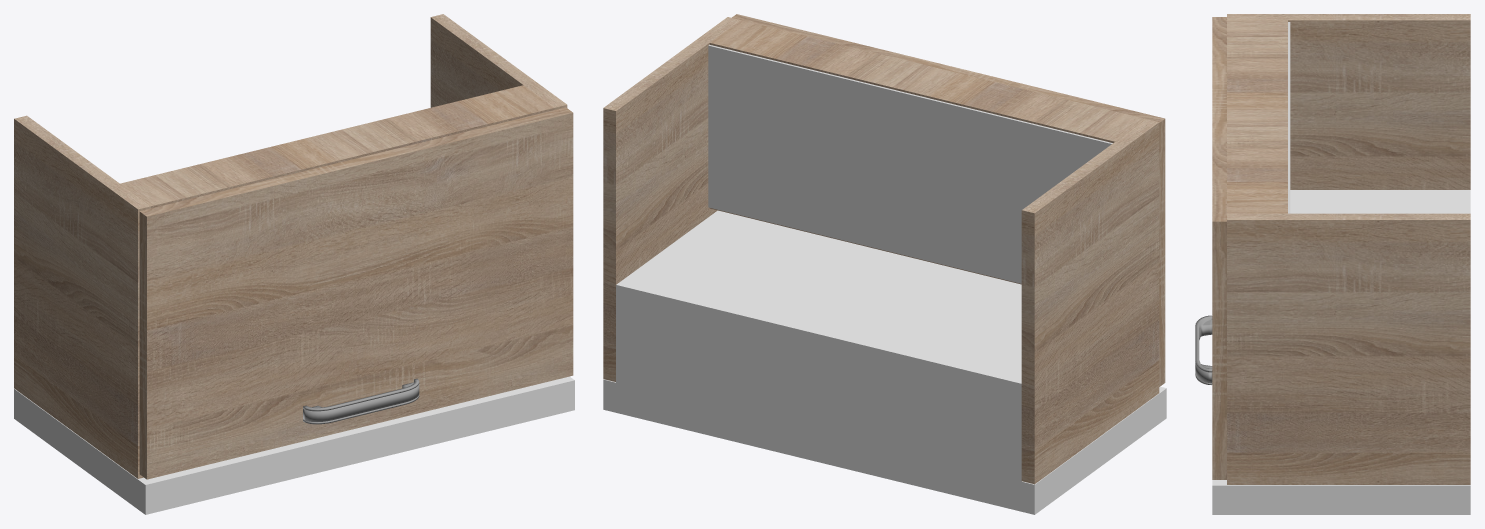
File: s_pec_36_60.glb
The picture shows the model from 3 angles, left to right: view 1: azimuth 30°, elevation 25°; view 2: azimuth 150°, elevation 25°; view 3: azimuth 270°, elevation 25°; orthographic projection. The views are drawn at different scales.
Parts seen in each view (by area): view 1: s_pec_36_60_ajto_1, s_pec_36_60_korpusz, s_pec_36_60_elszivo, s_pec_36_60_fogo_1; view 2: s_pec_36_60_korpusz, s_pec_36_60_elszivo, s_pec_36_60_ajto_1; view 3: s_pec_36_60_korpusz, s_pec_36_60_elszivo, s_pec_36_60_ajto_1, s_pec_36_60_fogo_1.
Part boxes in pixels (left/top/right/bottom): s_pec_36_60_ajto_1: left=139, top=107, right=573, bottom=479; s_pec_36_60_korpusz: left=14, top=14, right=567, bottom=478; s_pec_36_60_elszivo: left=14, top=376, right=574, bottom=514; s_pec_36_60_fogo_1: left=303, top=378, right=419, bottom=424; s_pec_36_60_korpusz: left=603, top=17, right=1159, bottom=484; s_pec_36_60_elszivo: left=603, top=210, right=1166, bottom=514; s_pec_36_60_ajto_1: left=732, top=14, right=1165, bottom=386; s_pec_36_60_korpusz: left=1227, top=14, right=1470, bottom=484; s_pec_36_60_elszivo: left=1212, top=190, right=1470, bottom=514; s_pec_36_60_ajto_1: left=1212, top=17, right=1226, bottom=479; s_pec_36_60_fogo_1: left=1195, top=315, right=1212, bottom=384.
Bounding box in the file's own units: 0.6 × 0.4007 × 0.3388.
Materials: 5 (3 with a texture image).
